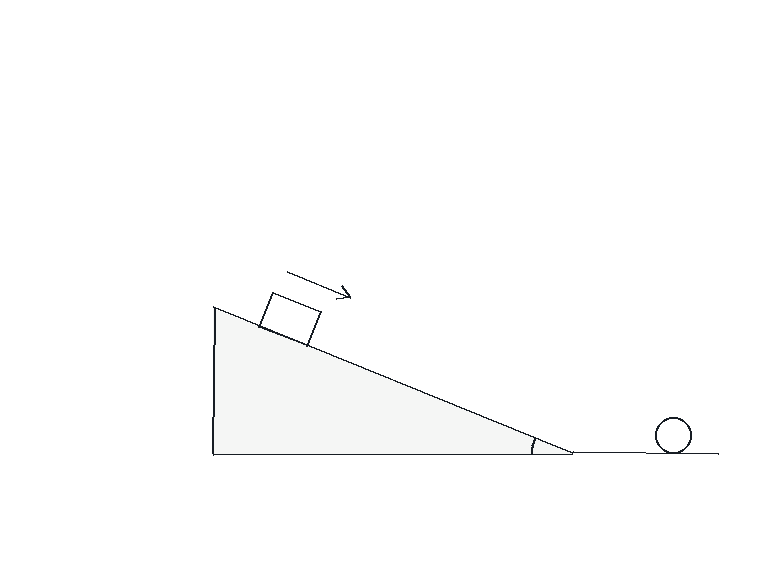ball: (653, 415, 693, 455)
block: (257, 290, 322, 348)
ramp: (211, 306, 574, 455)
